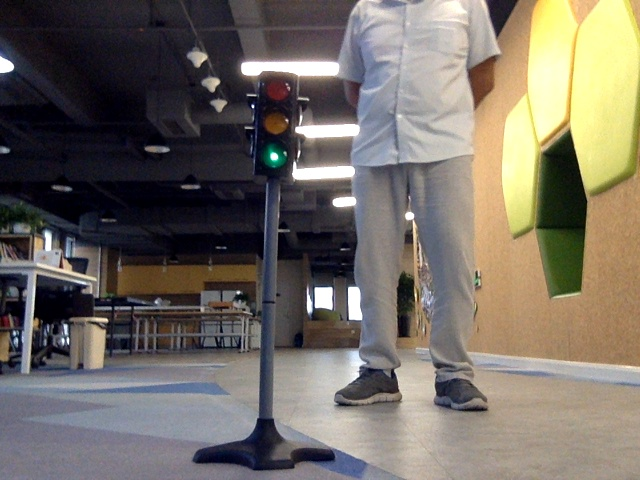green: (259, 79, 290, 172)
